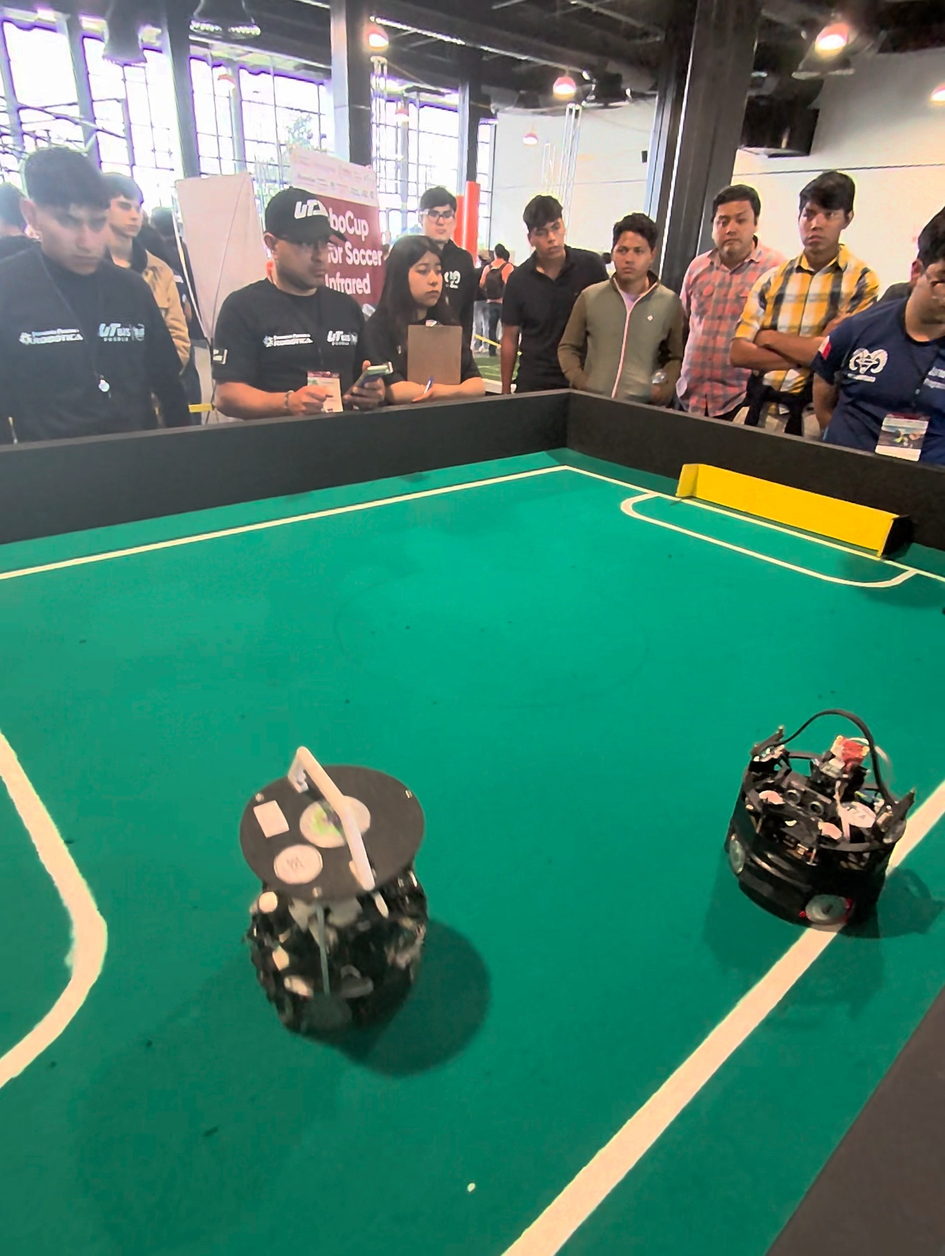Robot: (229, 734, 445, 1078), (728, 698, 917, 940)
